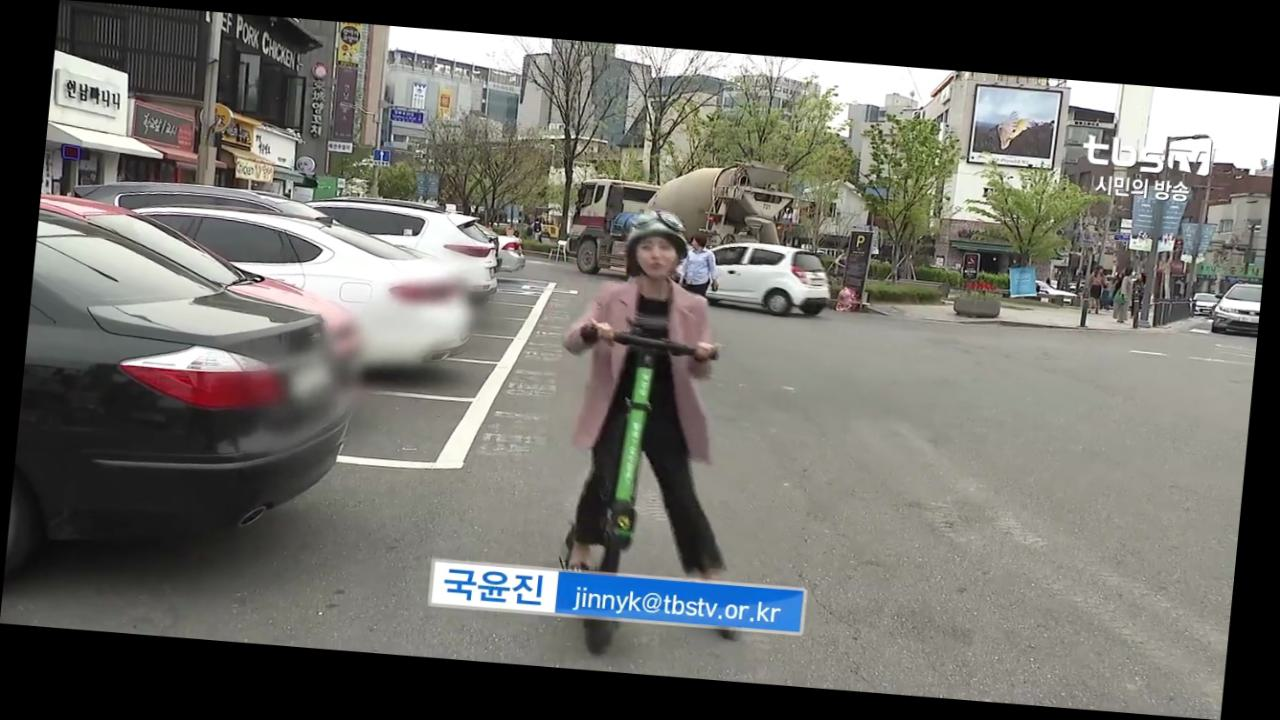helmet: (528, 204, 792, 671)
